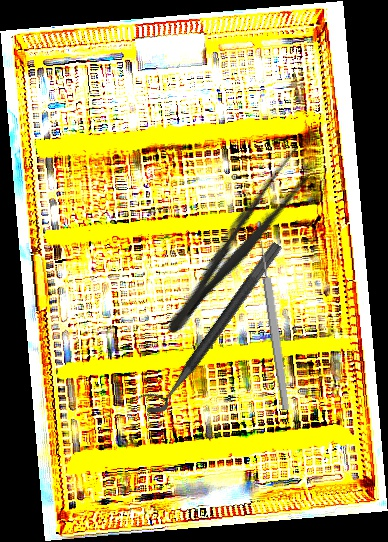Dressing Forceps: (156, 142, 322, 344)
Fixation Ring: (134, 230, 284, 421)
Surgical Spoon: (253, 220, 292, 411)
